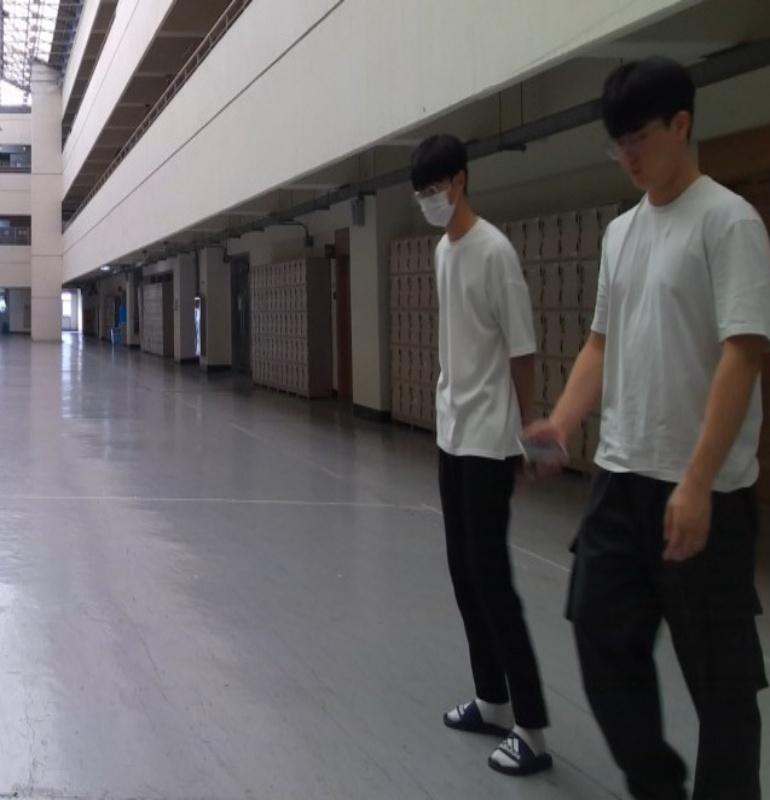person: (407, 130, 558, 777)
